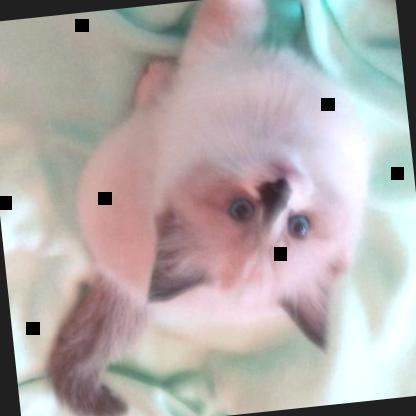cat: (10, 0, 395, 415)
